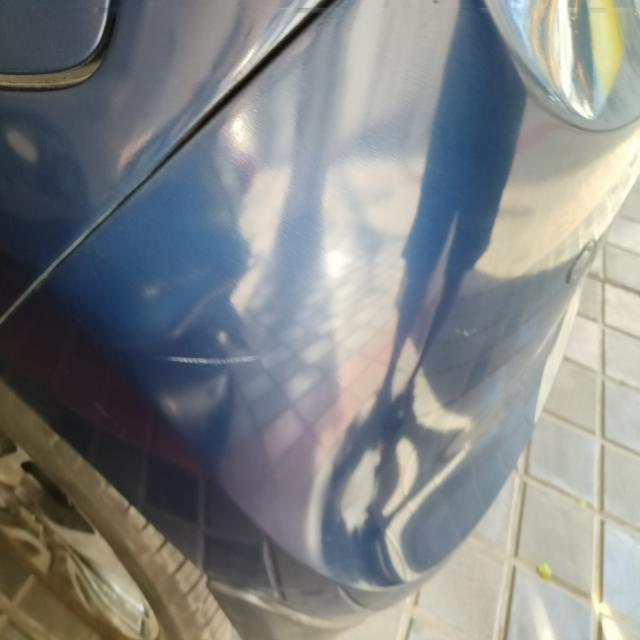scratch: (153, 344, 271, 373)
